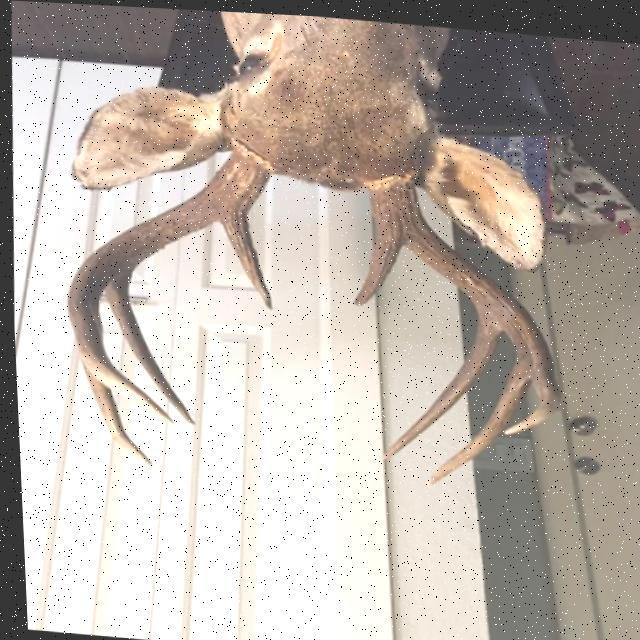L-F: (364, 165, 562, 430)
L-G1: (350, 224, 401, 301)
L-G2: (375, 310, 499, 456)
L-G3: (422, 356, 528, 481)
R-F: (64, 136, 272, 422)
R-G1: (217, 208, 271, 308)
R-G2: (101, 264, 193, 423)
